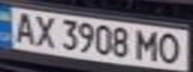0: (93, 22, 115, 56)
3: (57, 17, 81, 52)
8: (112, 25, 133, 60)
9: (75, 20, 96, 54)
A: (9, 9, 39, 45)
M: (133, 28, 163, 62)
O: (154, 30, 187, 65)
X: (30, 12, 60, 48)
